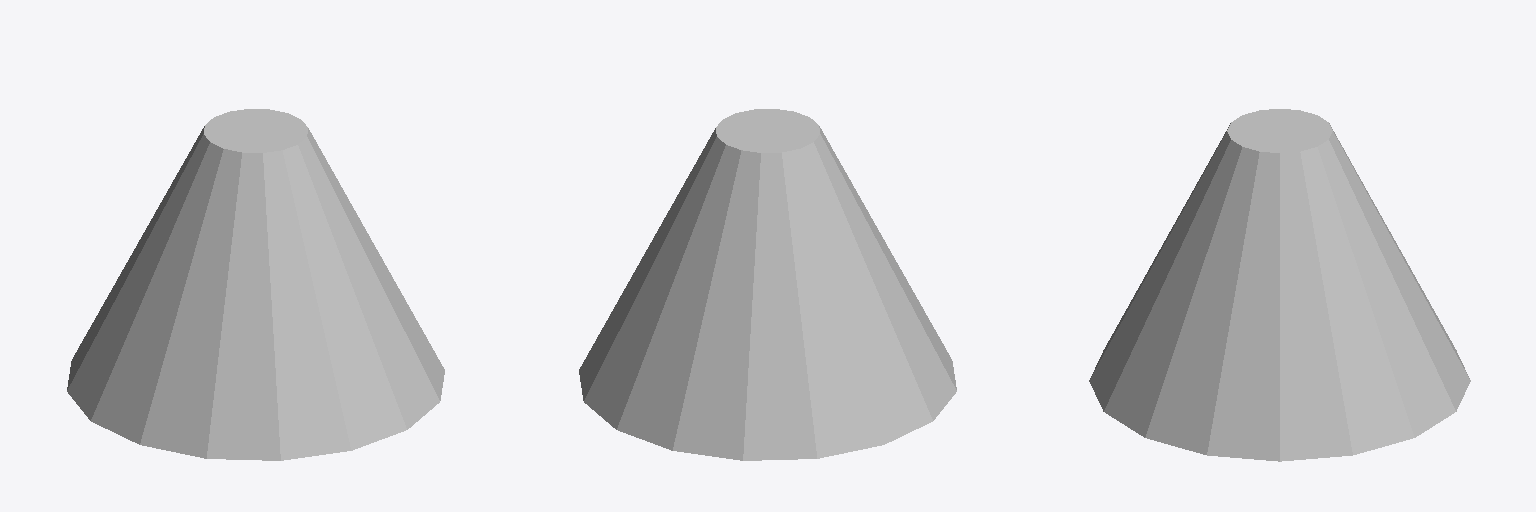
The model's file is MOTL_Player_Body.obj.
3 renders of one model, left to right at view 1: azimuth 30°, elevation 25°; view 2: azimuth 150°, elevation 25°; view 3: azimuth 270°, elevation 25°, orthographic.
Visible parts, largest first — view 1: Cone; view 2: Cone; view 3: Cone.
Part boxes in pixels (x1,y1,x2,y2): Cone: (67,109,444,460); Cone: (579,109,956,460); Cone: (1089,109,1470,461).
Bounding box in the file's own units: 2 × 1.45 × 2.